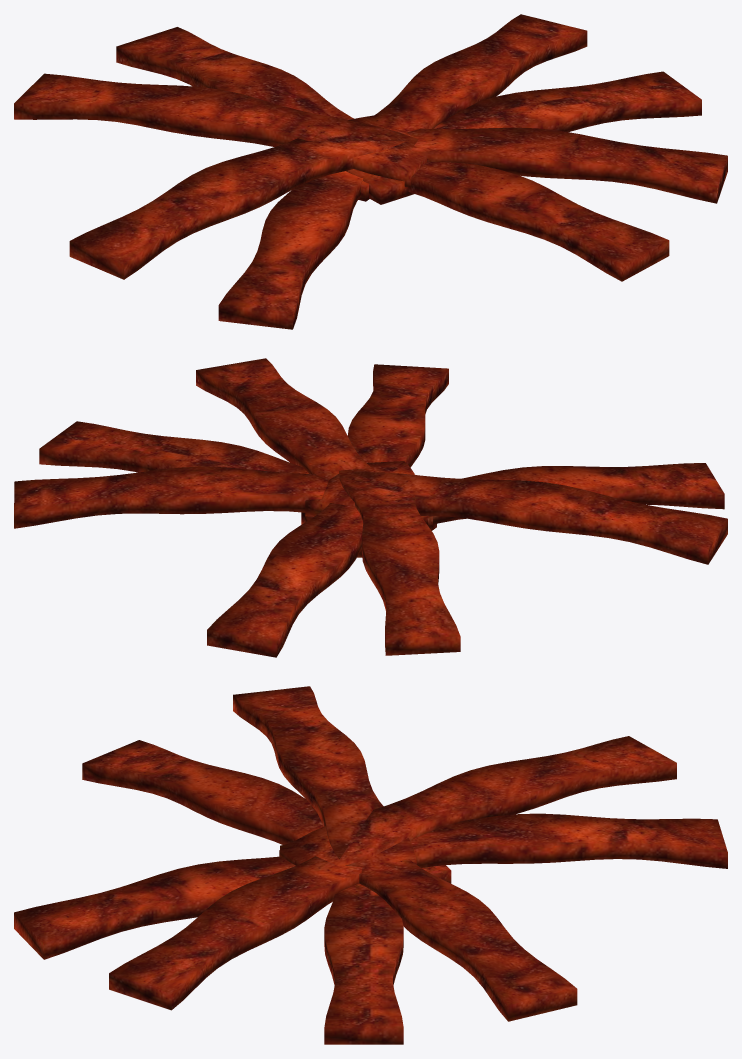
File: savory-pepper.glb
The picture shows the model from 3 angles, top to bottom: view 1: azimuth 30°, elevation 25°; view 2: azimuth 150°, elevation 25°; view 3: azimuth 270°, elevation 25°; orthographic projection. The views are drawn at different scales.
Parts seen in each view (by area): view 1: savory-pepper; view 2: savory-pepper; view 3: savory-pepper.
Part boxes in pixels (<box>): savory-pepper: <box>14,14,727,329</box>; savory-pepper: <box>14,358,727,657</box>; savory-pepper: <box>14,686,727,1044</box>.
Size of the model in its own units: 2.12 by 0.1634 by 1.99.
1 material, 1 textured.
